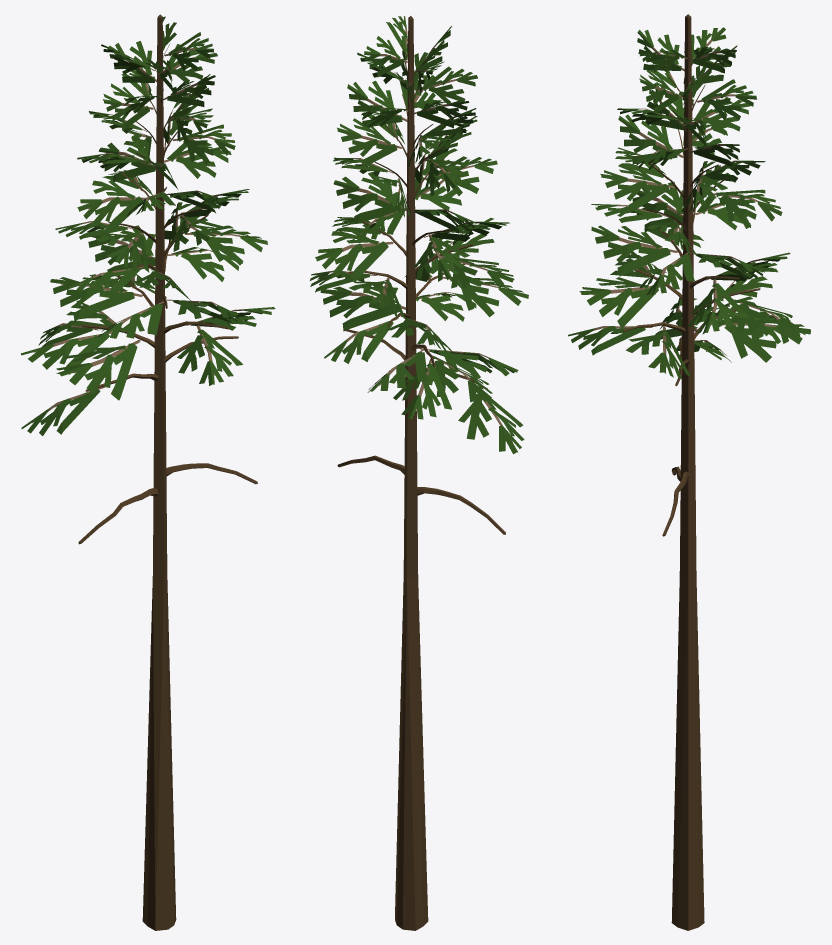
The model's file is SM_tree_04.gltf.
3 renders of one model, left to right at view 1: azimuth 30°, elevation 25°; view 2: azimuth 150°, elevation 25°; view 3: azimuth 270°, elevation 25°, orthographic.
Parts seen in each view (by area): view 1: SM_tree_04; view 2: SM_tree_04; view 3: SM_tree_04.
Boxes of the visible parts, x1=… form: SM_tree_04: x1=20, y1=14, x2=275, y2=930; SM_tree_04: x1=310, y1=16, x2=528, y2=930; SM_tree_04: x1=568, y1=14, x2=810, y2=930.
Size of the model in its own units: 4.38 by 16.24 by 4.13.
Materials: 2 (1 with a texture image).
